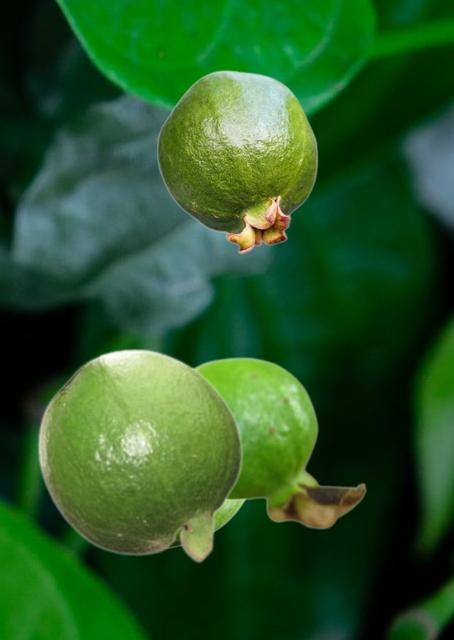guava: (36, 347, 242, 563), (195, 356, 366, 529), (156, 70, 317, 253), (171, 501, 245, 547)
